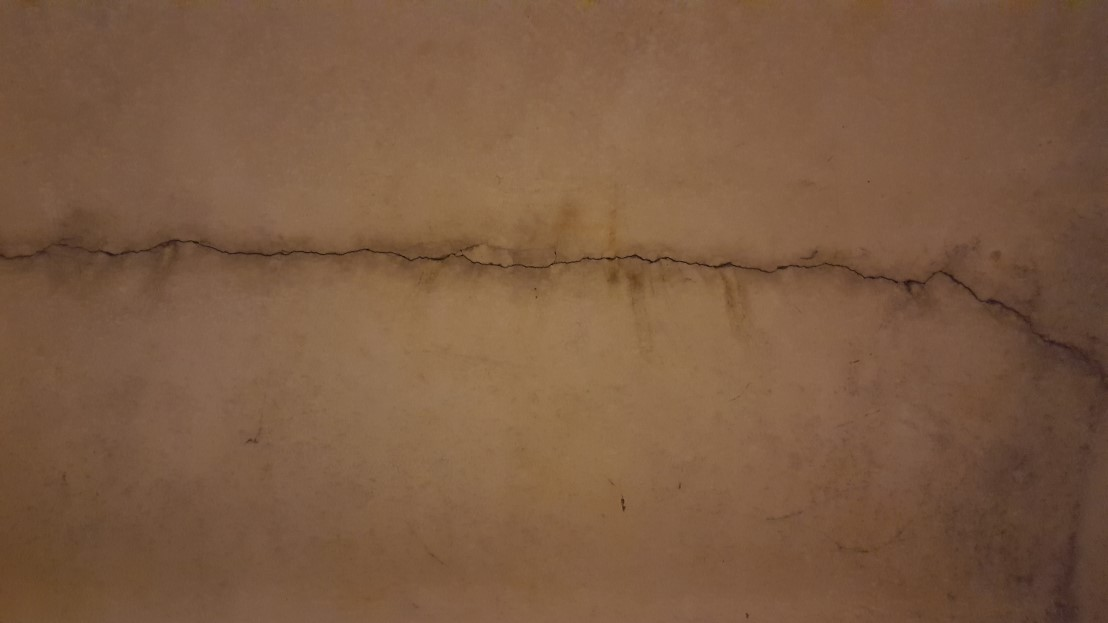Crack: (0, 211, 1108, 397)
